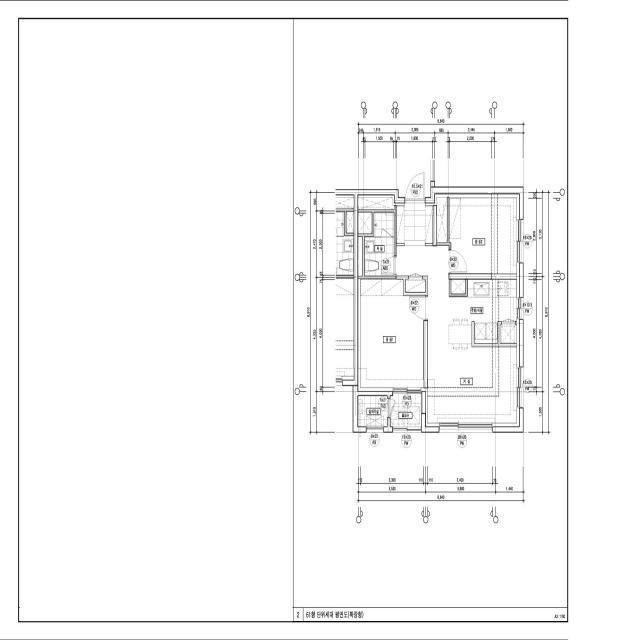background: (0, 0, 640, 639)
space_balconi: (390, 394, 421, 427)
space_bedroom: (358, 279, 426, 391), (450, 194, 519, 274)
space_front: (396, 200, 433, 245)
space_kitchen: (449, 279, 519, 347)
space_living_room: (397, 245, 519, 426)
space_other: (435, 194, 447, 242), (358, 195, 394, 209), (358, 213, 372, 234), (406, 279, 425, 292), (451, 280, 465, 294), (358, 237, 363, 276)
space_outdoor_room: (358, 396, 387, 427)
space_toilet: (364, 213, 394, 276)
